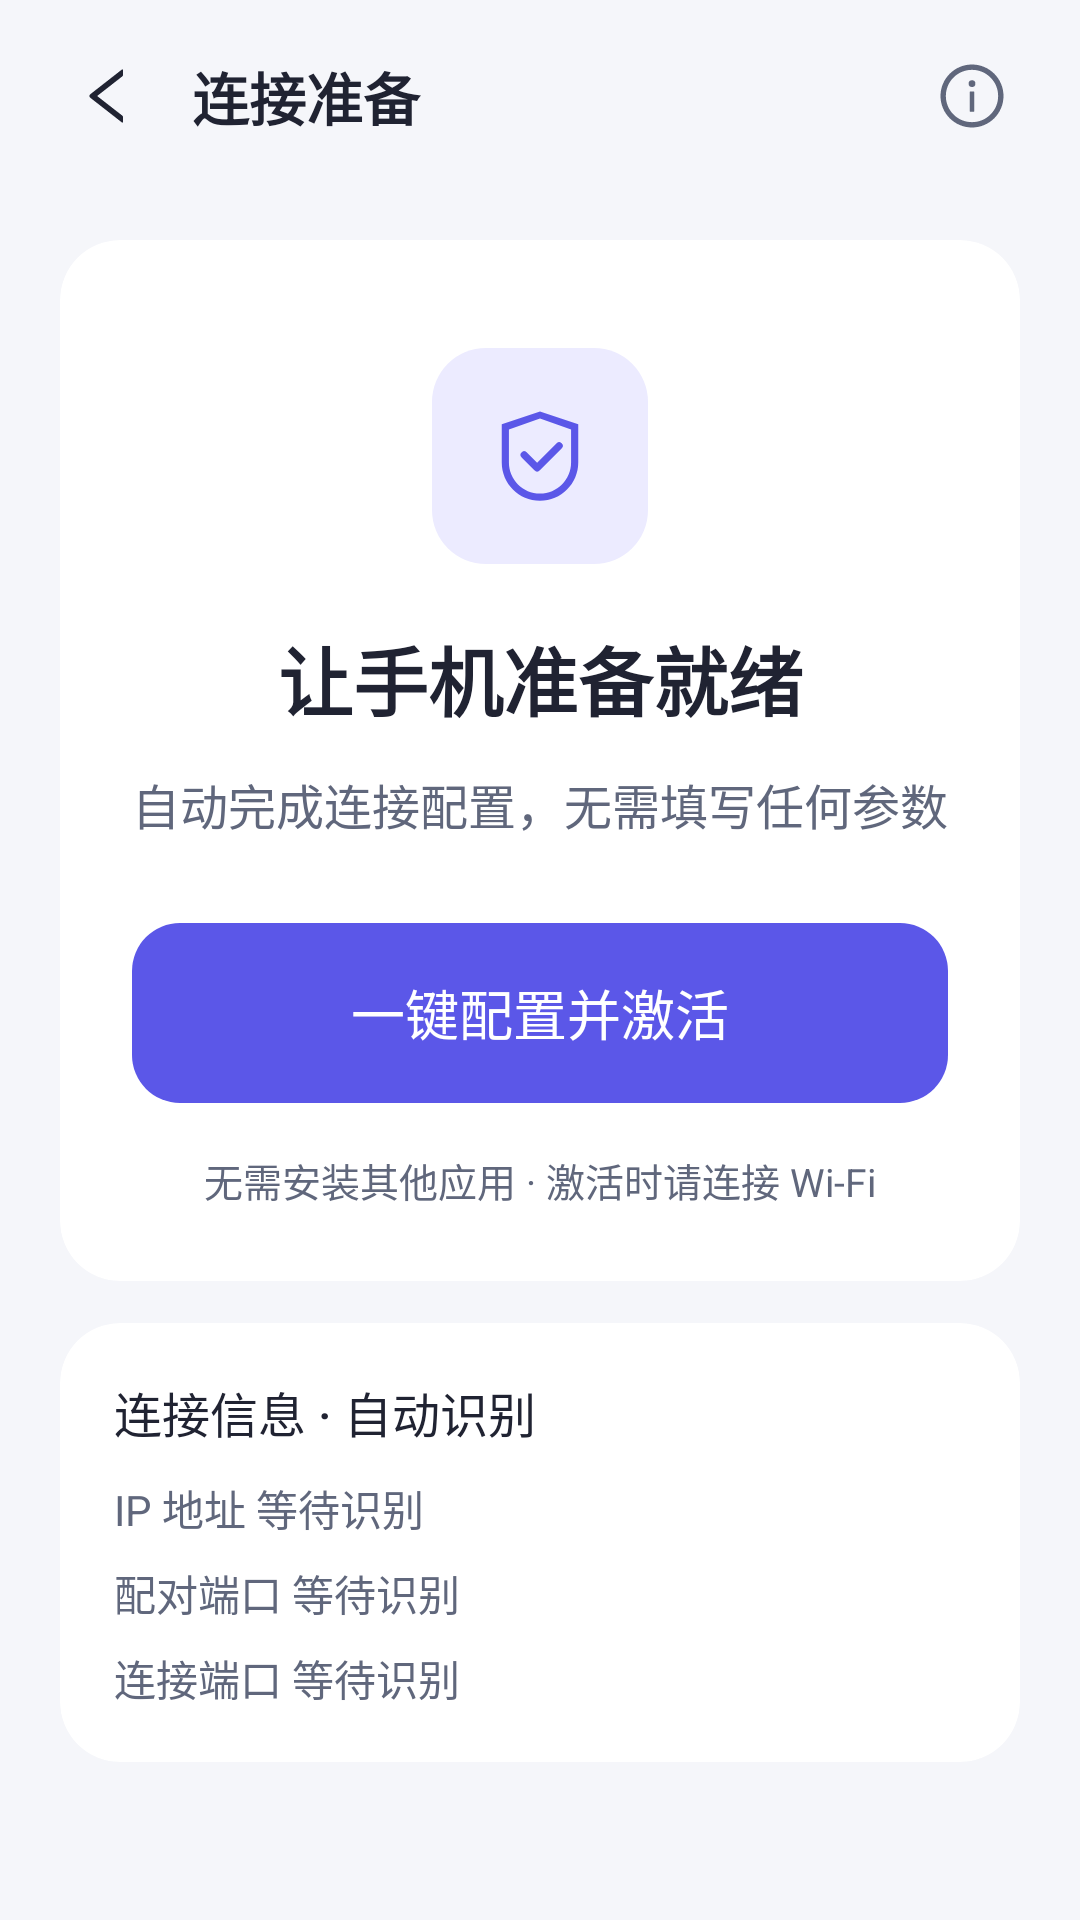

Point at icon controls on the screen. Image size 1080 × 1920, points as (x=x, y=y).
shizuku shield: (x=540, y=456)
帮助与开源许可: (x=972, y=96)
返回: (x=106, y=96)
